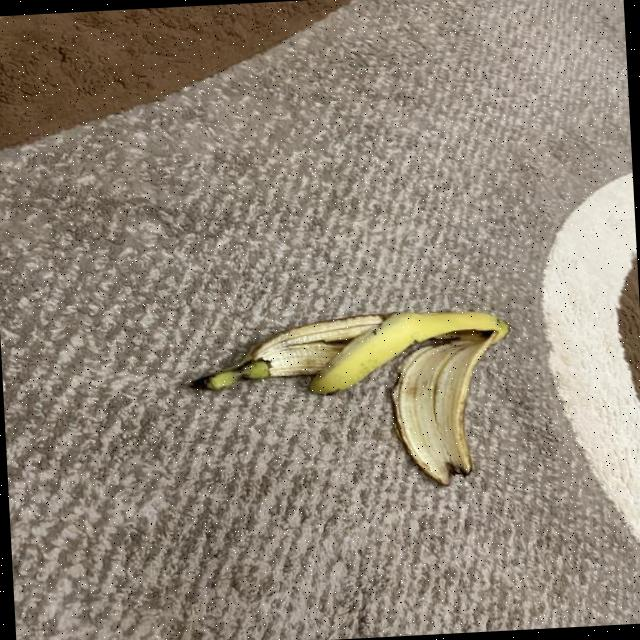banana-peel: (185, 303, 519, 499), (386, 324, 516, 488), (303, 305, 512, 397), (185, 312, 387, 393)
